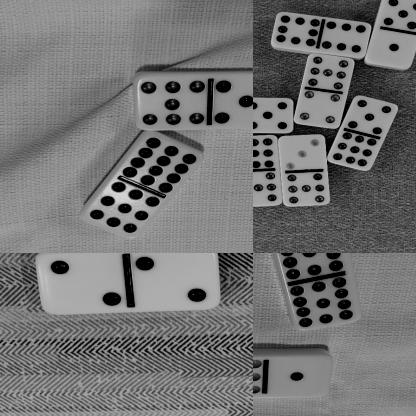pip-1: (266, 354, 333, 399), (367, 28, 416, 69)
pip-11: (291, 278, 363, 331), (271, 253, 348, 280)
pip-12: (123, 130, 206, 194)
pip-2: (36, 253, 125, 314), (128, 253, 221, 311)
pip-3: (280, 134, 330, 170)
pip-4: (296, 90, 342, 130)
pip-5: (210, 71, 253, 130), (348, 96, 400, 135), (253, 97, 293, 133), (382, 0, 416, 31)
pip-6: (323, 16, 372, 59)
pip-7: (137, 73, 209, 130), (301, 54, 355, 90), (284, 173, 332, 208), (253, 170, 282, 208)
pip-8: (272, 13, 322, 49)
pip-9: (80, 183, 161, 238), (328, 131, 380, 173), (253, 135, 279, 170)
